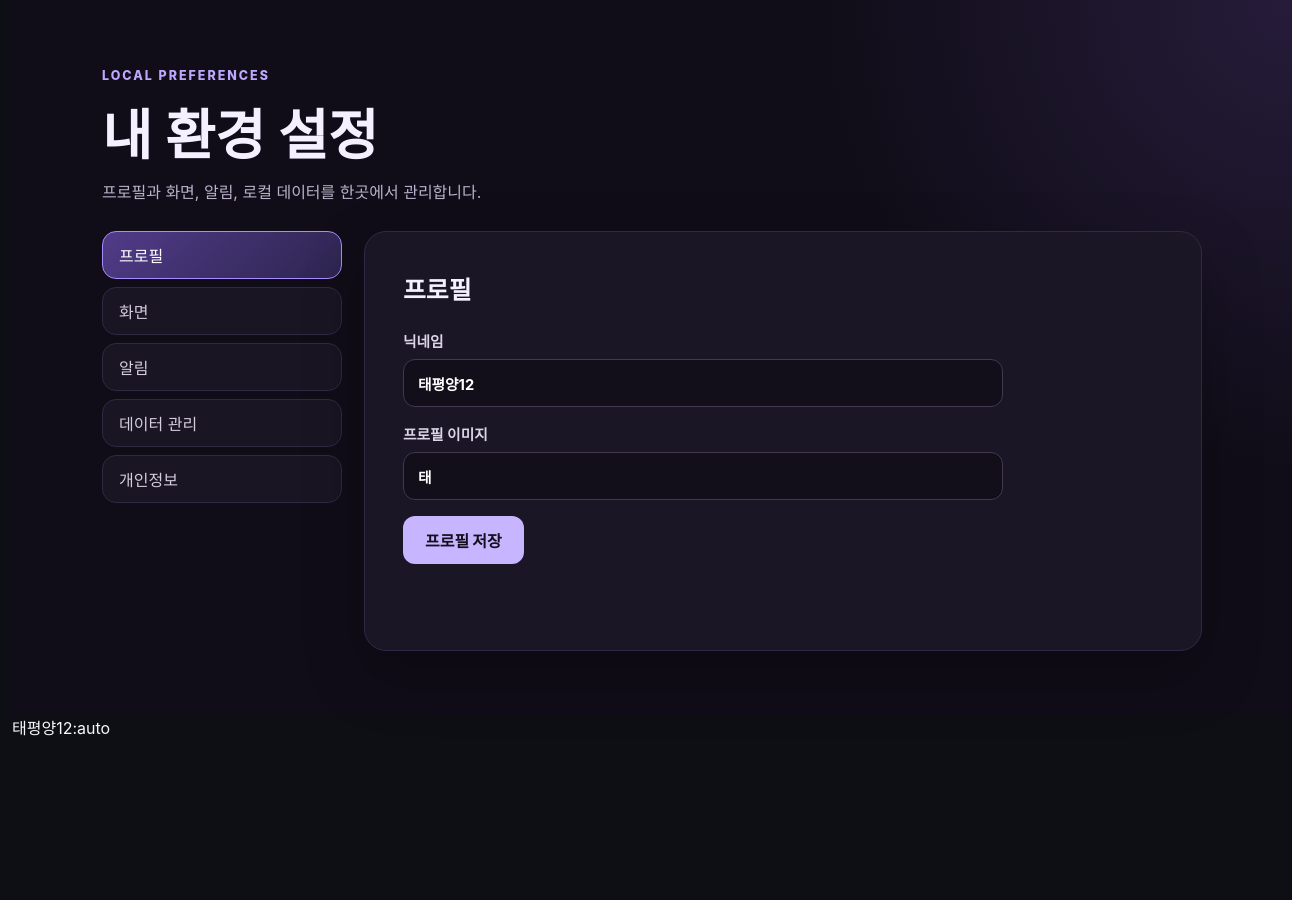
설정 화면 › 프로필을 저장하고 화면 설정을 즉시 반영한다
Replace the text in the field labelled "닉네임" with "새 사용자": (703, 383) [403,359,1003,407]
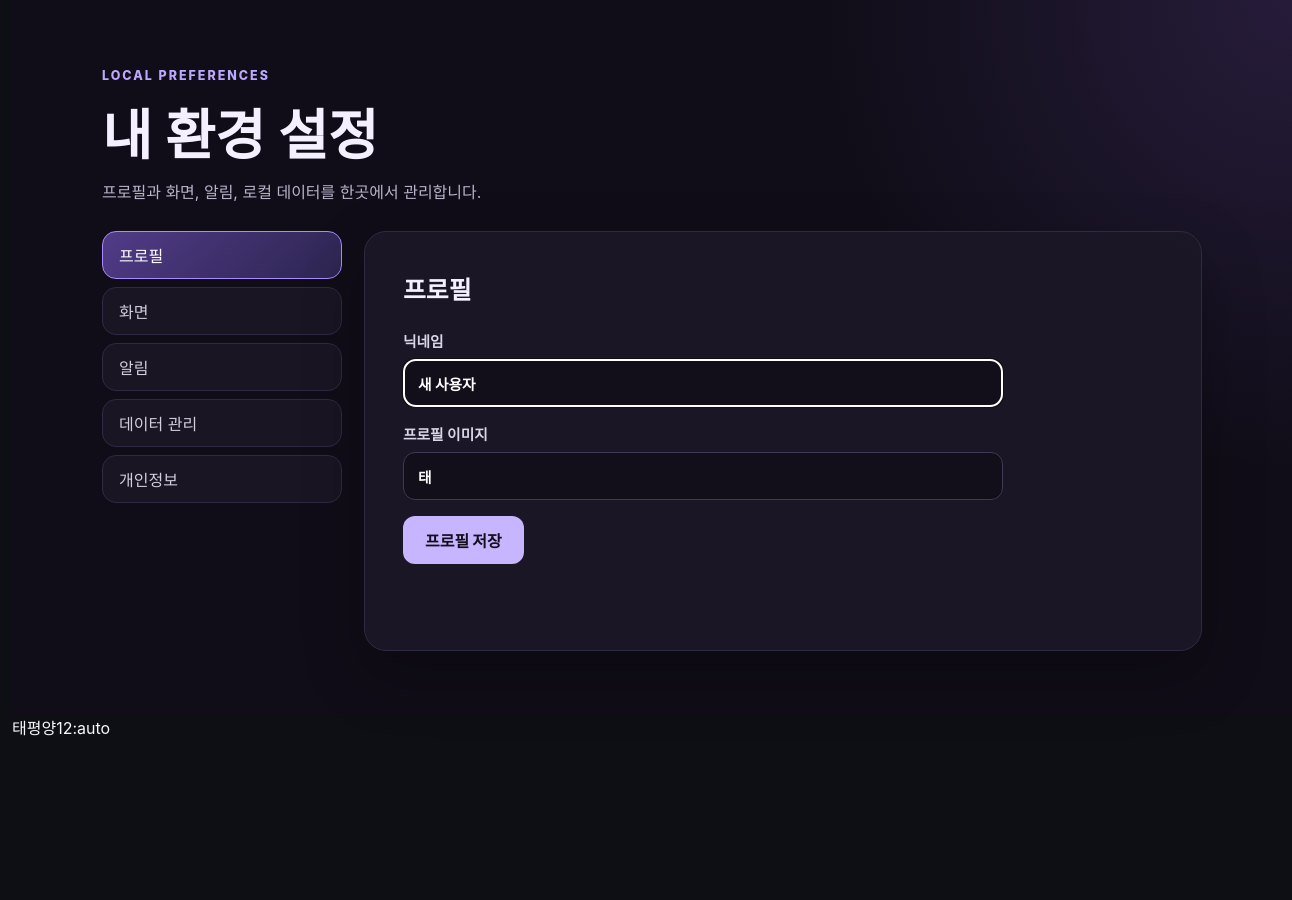
Click the button "프로필 저장": (463, 540) [403,516,524,564]
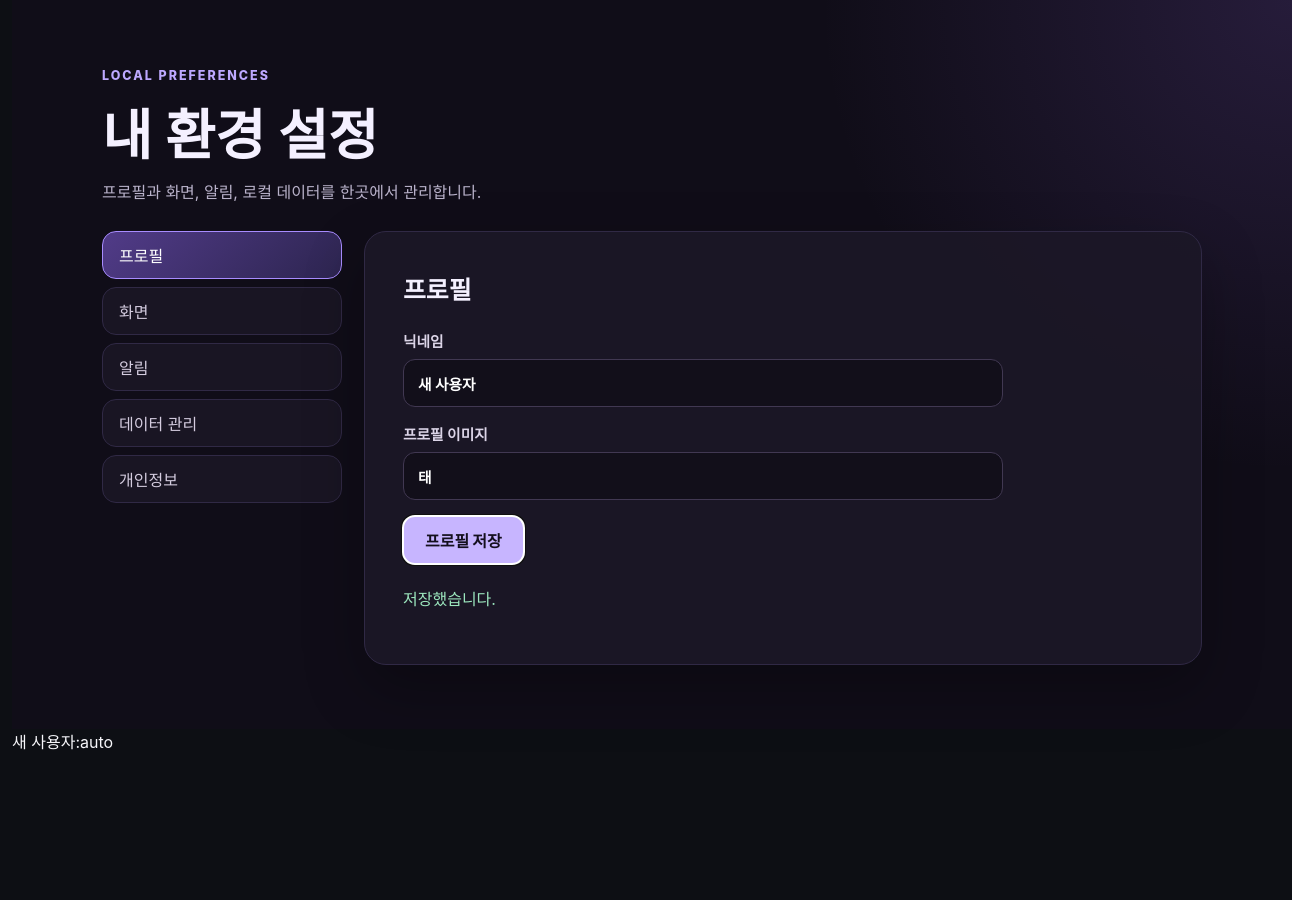
Click the tab "화면": (222, 311) [102,287,342,335]
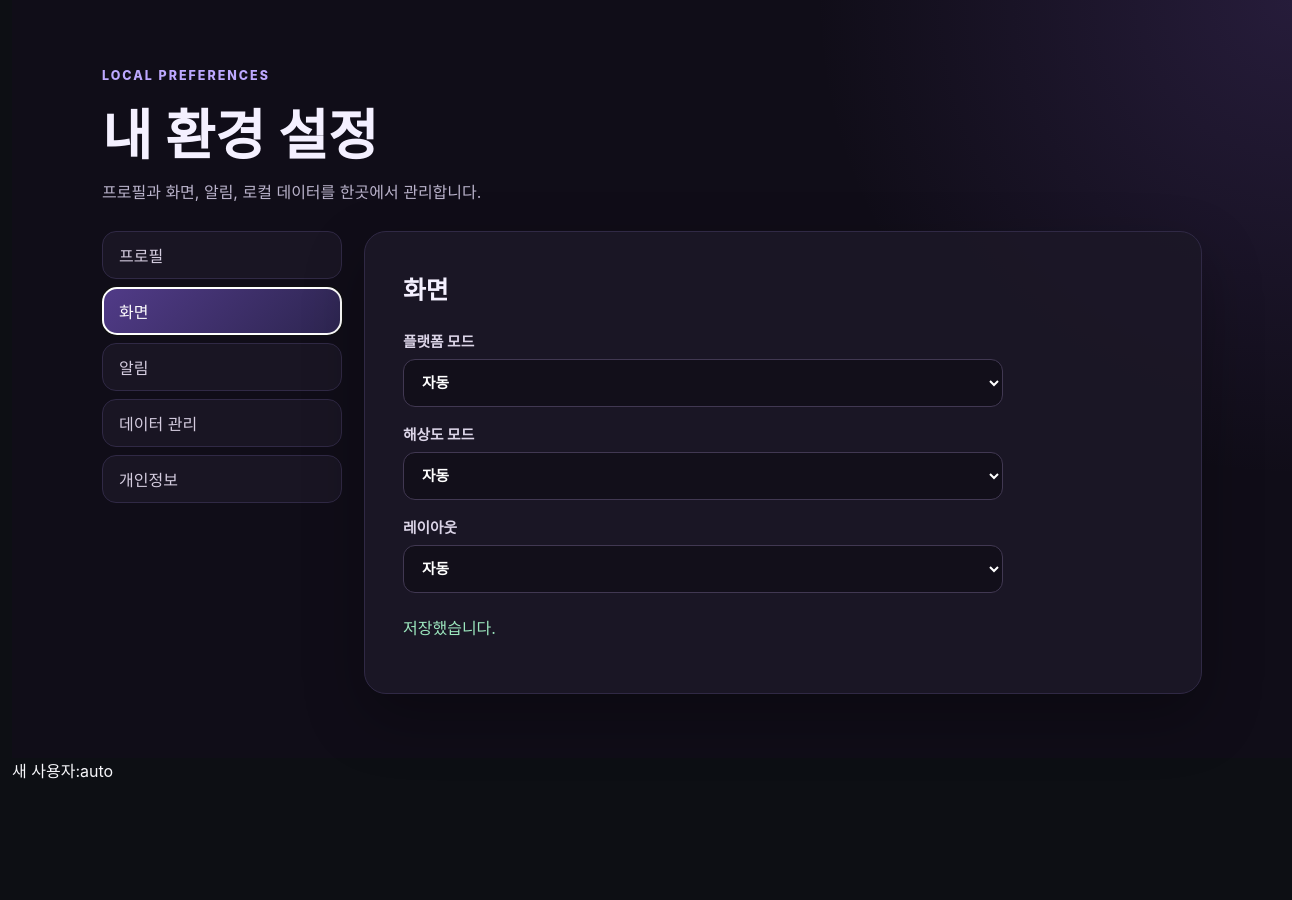
Select "태블릿" in the dropdown labelled "플랫폼 모드": (703, 383) [403,359,1003,407]
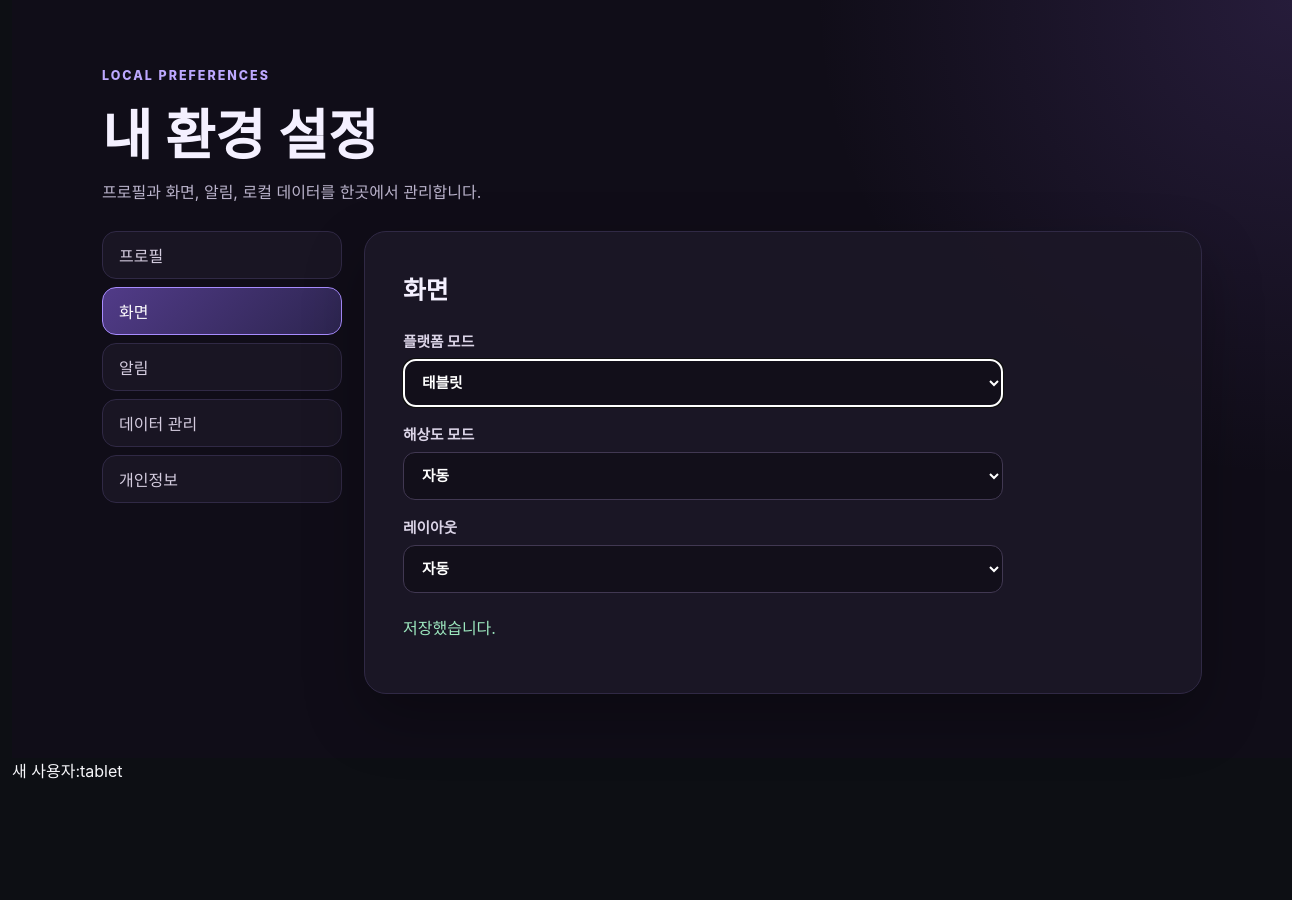
Expected: the message reads "저장했습니다.", [403,618,496,638]
Expected: the text named "설정 결과" reads "새 사용자:tablet", [12,761,122,781]
